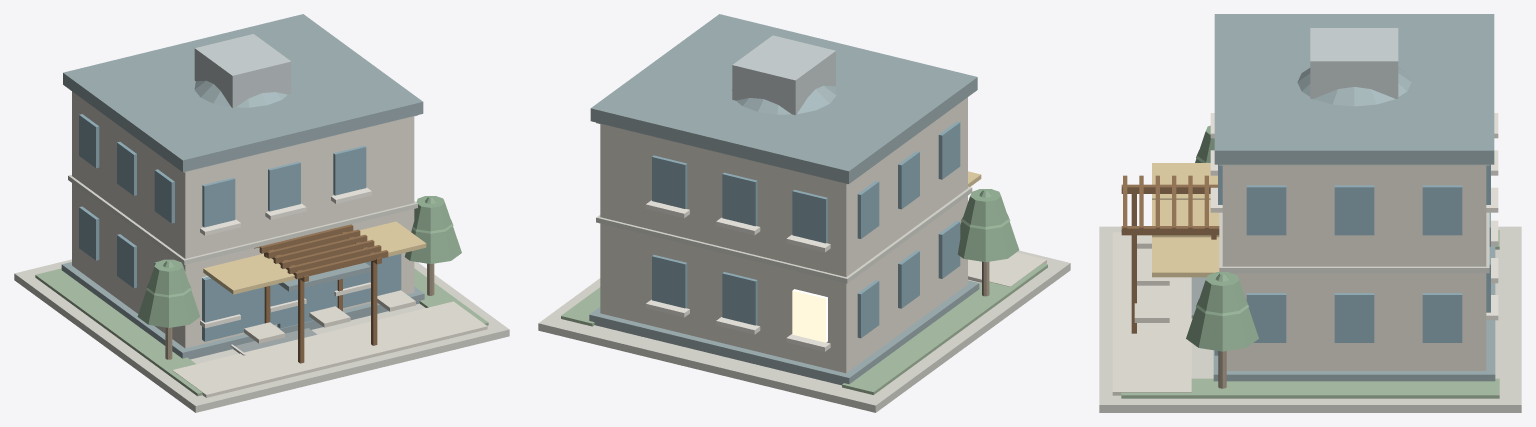
File: remaster_shop_16.glb
3 renders of one model, left to right at view 1: azimuth 30°, elevation 25°; view 2: azimuth 150°, elevation 25°; view 3: azimuth 270°, elevation 25°, orthographic. The views are drawn at different scales.
Parts seen in each view (by area): view 1: remaster_shop_16 cream, remaster_shop_16 roof, remaster_shop_16 glass, remaster_shop_16 stone, remaster_shop_16 leaf, remaster_shop_16 metal, remaster_shop_16 green, remaster_shop_16 gold, remaster_shop_16 white, Pergola slat.042, Pergola slat.043, Pergola slat.044 (+7 smaller); view 2: remaster_shop_16 cream, remaster_shop_16 roof, remaster_shop_16 glass, remaster_shop_16 stone, remaster_shop_16 metal, remaster_shop_16 green, remaster_shop_16 leaf, remaster_shop_16 white, remaster_shop_16 warm; view 3: remaster_shop_16 cream, remaster_shop_16 roof, remaster_shop_16 stone, remaster_shop_16 glass, remaster_shop_16 green, remaster_shop_16 metal, remaster_shop_16 gold, remaster_shop_16 leaf, remaster_shop_16 white, Pergola runner.013, Pergola runner.012, Pergola post.013.
Part boxes in pixels (<box>): remaster_shop_16 cream: <box>72,91,487,397</box>; remaster_shop_16 roof: <box>61,14,424,359</box>; remaster_shop_16 glass: <box>79,114,401,341</box>; remaster_shop_16 stone: <box>14,115,509,412</box>; remaster_shop_16 leaf: <box>137,196,461,327</box>; remaster_shop_16 metal: <box>194,34,291,107</box>; remaster_shop_16 green: <box>35,268,488,396</box>; remaster_shop_16 gold: <box>203,221,426,294</box>; remaster_shop_16 white: <box>200,187,371,355</box>; Pergola slat.042: <box>294,250,388,279</box>; Pergola slat.043: <box>287,245,381,273</box>; Pergola slat.044: <box>280,239,374,268</box>; remaster_shop_16 cream: <box>600,97,1046,373</box>; remaster_shop_16 roof: <box>589,14,979,385</box>; remaster_shop_16 glass: <box>652,121,960,338</box>; remaster_shop_16 stone: <box>538,122,1070,412</box>; remaster_shop_16 metal: <box>732,35,835,114</box>; remaster_shop_16 green: <box>561,263,1047,394</box>; remaster_shop_16 leaf: <box>957,189,1019,262</box>; remaster_shop_16 white: <box>645,200,830,351</box>; remaster_shop_16 warm: <box>792,289,827,342</box>; remaster_shop_16 cream: <box>1112,165,1486,395</box>; remaster_shop_16 roof: <box>1213,14,1495,381</box>; remaster_shop_16 stone: <box>1099,164,1521,412</box>; remaster_shop_16 glass: <box>1214,164,1490,355</box>; remaster_shop_16 green: <box>1121,230,1499,398</box>; remaster_shop_16 metal: <box>1310,28,1398,98</box>; remaster_shop_16 gold: <box>1152,163,1219,277</box>; remaster_shop_16 leaf: <box>1186,125,1258,351</box>; remaster_shop_16 white: <box>1210,113,1498,320</box>; Pergola runner.013: <box>1121,226,1219,235</box>; Pergola runner.012: <box>1121,184,1217,193</box>; Pergola post.013: <box>1131,235,1136,333</box>.
Size of the model in its own units: 9.64 by 7 by 9.6.
